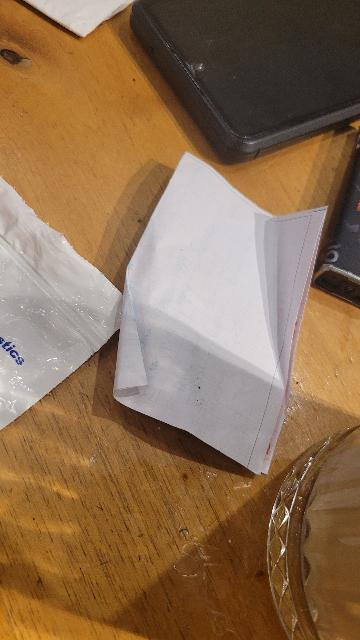Kagit: (116, 152, 332, 475), (26, 0, 132, 37)
Plastik: (0, 174, 124, 432)
